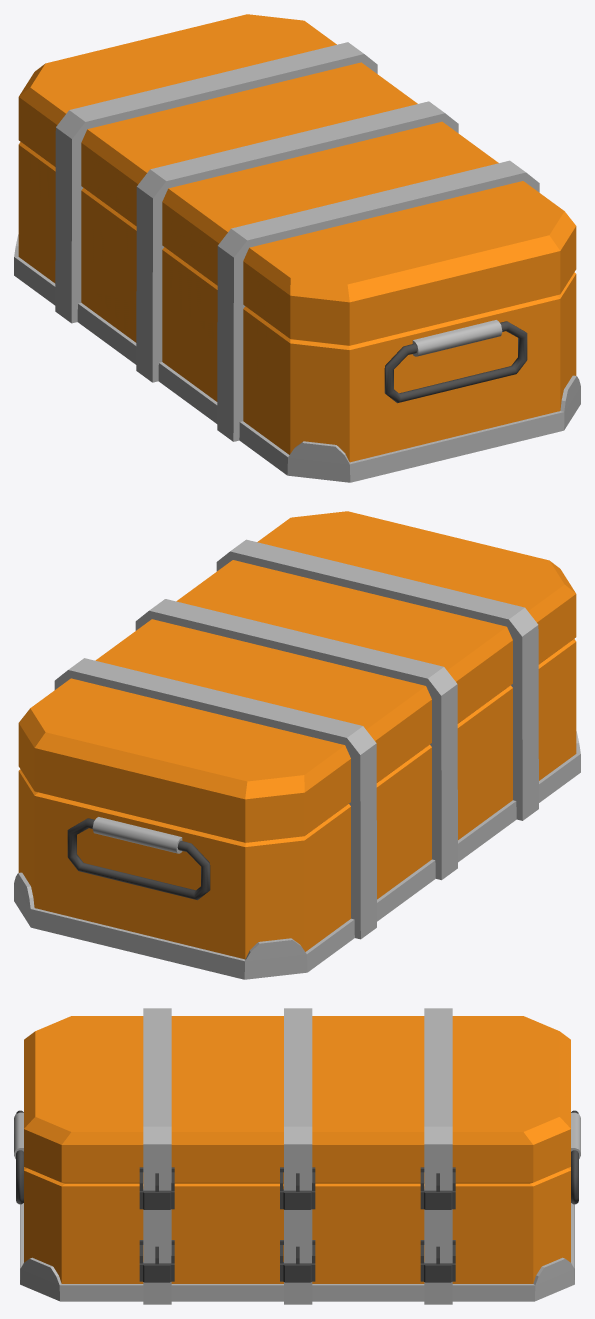
3 views of the same model, one above another, from view 1: azimuth 30°, elevation 25°; view 2: azimuth 150°, elevation 25°; view 3: azimuth 270°, elevation 25° (orthographic). The views are drawn at different scales.
Visible parts, largest first — view 1: SM_Box05; view 2: SM_Box05; view 3: SM_Box05.
Boxes of the visible parts, x1,y1,x2,y2 form: SM_Box05: [14, 14, 580, 482]; SM_Box05: [14, 511, 580, 979]; SM_Box05: [14, 1008, 580, 1304].
Size of the model in its own units: 85.67 by 52.02 by 155.
